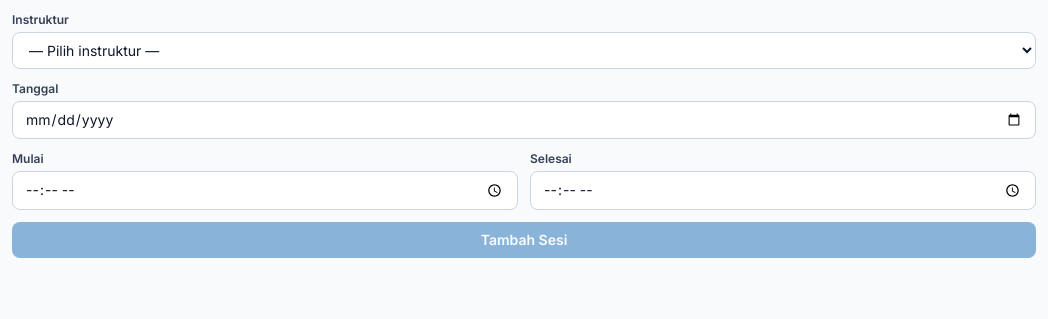
TambahSesiForm › shows success message and resets form when action returns { ok: true }
Step 1. Select "Bu Hartati Wulandari" in the dropdown labelled "Instruktur" → (524, 50), box x1=12 y1=32 x2=1036 y2=69
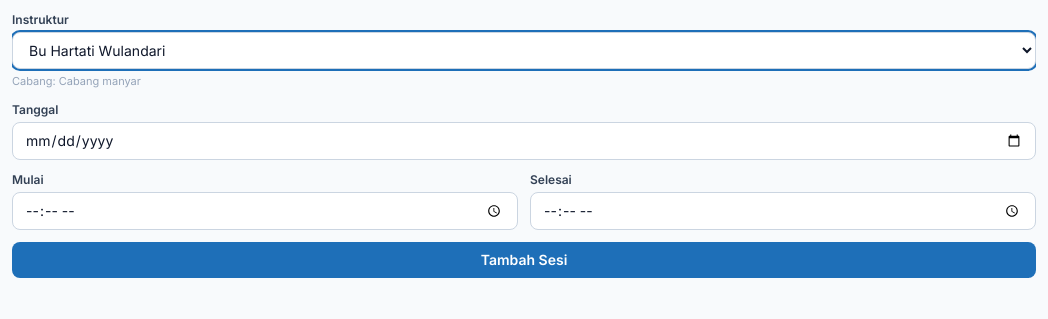
Step 2. Type "2026-08-02" into the date field labelled "Tanggal" → (524, 140), box x1=12 y1=122 x2=1036 y2=160
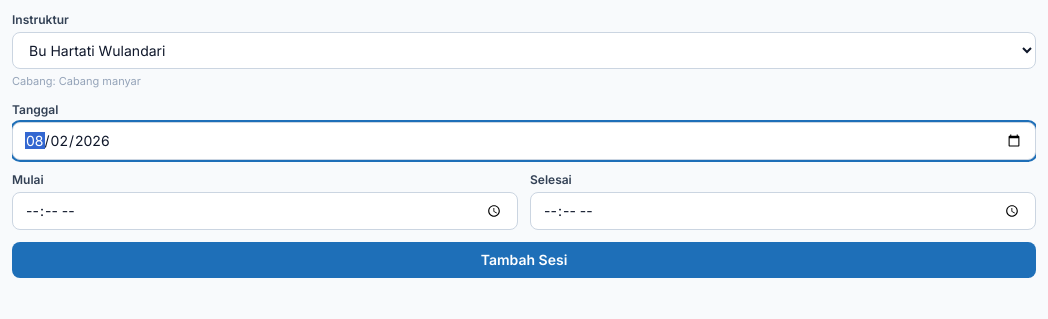
Step 3. Type "14:00" into the time field labelled "Mulai" → (265, 211), box x1=12 y1=192 x2=518 y2=230
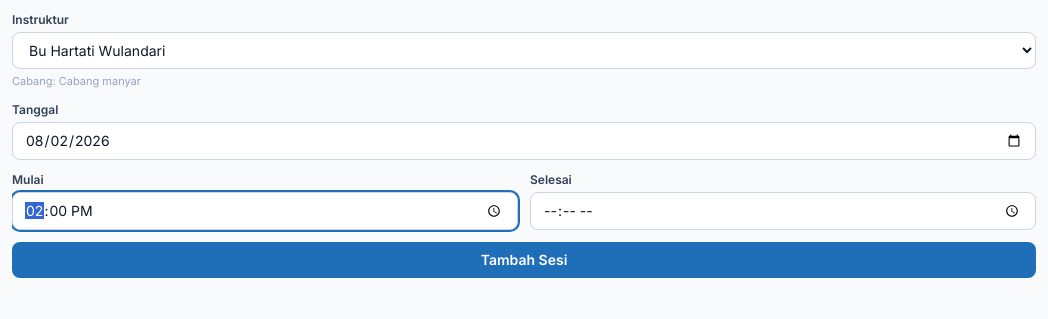
Step 4. Type "15:00" into the time field labelled "Selesai" → (783, 211), box x1=530 y1=192 x2=1036 y2=230
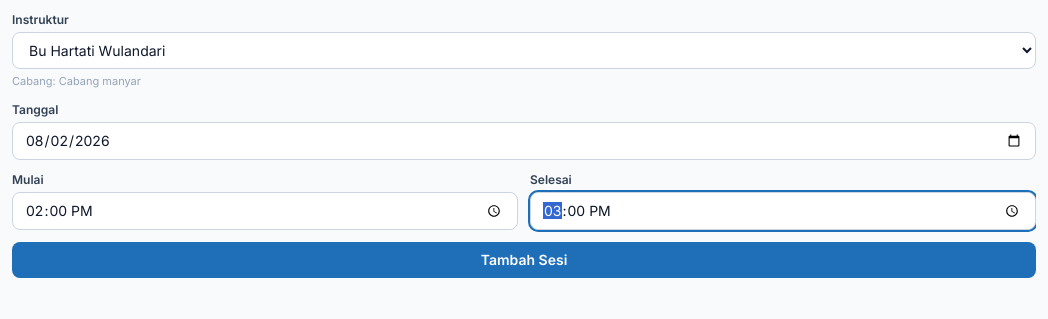
Step 5. Click the button "Tambah Sesi" → (524, 260), box x1=12 y1=242 x2=1036 y2=278
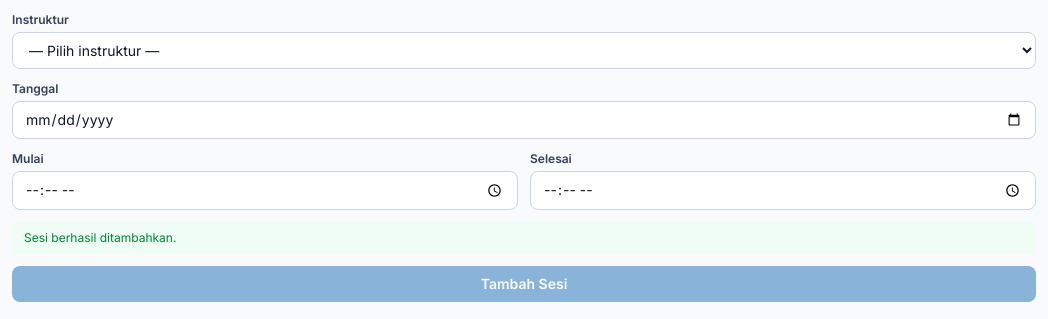
Result: the message reads "Sesi berhasil ditambahkan." at x1=24 y1=230 x2=176 y2=245
